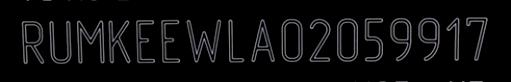letter: (183, 16, 223, 62), (357, 15, 390, 65), (73, 17, 106, 65), (14, 18, 47, 66), (386, 15, 417, 65), (247, 15, 278, 65), (413, 16, 445, 64), (464, 14, 493, 66), (304, 16, 335, 64), (332, 14, 361, 64), (276, 14, 303, 66), (224, 17, 252, 67), (157, 16, 184, 66), (45, 16, 73, 64), (102, 18, 131, 64), (131, 18, 158, 66), (444, 14, 465, 64)
